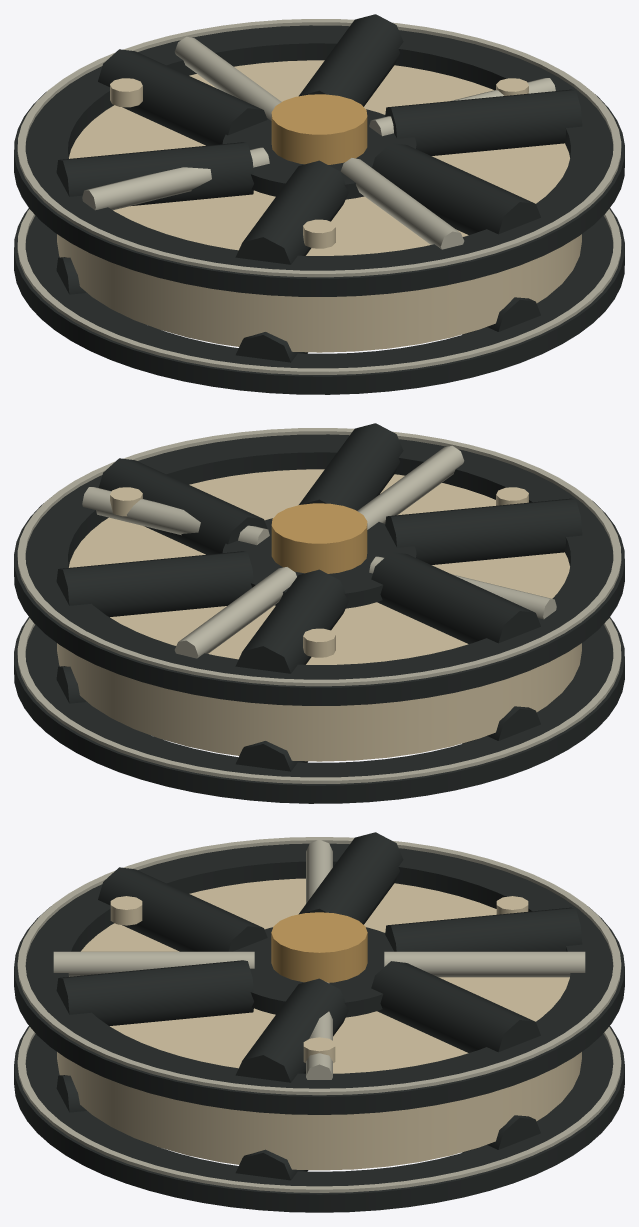
File: Continental.glb
3 views of the same model, one above another, from view 1: azimuth 30°, elevation 25°; view 2: azimuth 150°, elevation 25°; view 3: azimuth 270°, elevation 25° (orthographic).
Parts seen in each view (by area): view 1: Stamped outer rim (×2), Wound correction stock, Pressed web (×9), Pressed lip (×2), Raised spoke (×4), Spindle, Spool hub, Take-up pin (×2); view 2: Stamped outer rim (×2), Pressed web (×9), Wound correction stock, Pressed lip (×2), Raised spoke (×4), Spindle, Spool hub, Take-up pin (×3); view 3: Stamped outer rim (×2), Wound correction stock, Pressed web (×9), Pressed lip (×2), Raised spoke (×4), Spindle, Spool hub, Take-up pin (×3).
Boxes of the visible parts, <box> form: Stamped outer rim (×2): <box>14,25,624,394</box>; Wound correction stock: <box>57,60,581,352</box>; Pressed web (×9): <box>56,14,582,362</box>; Pressed lip (×2): <box>17,19,621,374</box>; Raised spoke (×4): <box>82,36,555,249</box>; Spindle: <box>271,94,367,164</box>; Spool hub: <box>222,109,416,199</box>; Take-up pin (×2): <box>110,78,335,248</box>; Stamped outer rim (×2): <box>14,434,624,803</box>; Pressed web (×9): <box>56,423,582,771</box>; Wound correction stock: <box>57,469,581,761</box>; Pressed lip (×2): <box>17,428,621,783</box>; Raised spoke (×4): <box>82,445,556,658</box>; Spindle: <box>271,503,367,573</box>; Spool hub: <box>222,518,416,608</box>; Take-up pin (×3): <box>110,487,528,657</box>; Stamped outer rim (×2): <box>14,843,624,1212</box>; Wound correction stock: <box>57,878,581,1170</box>; Pressed web (×9): <box>56,832,582,1180</box>; Pressed lip (×2): <box>17,837,621,1192</box>; Raised spoke (×4): <box>53,839,585,1079</box>; Spindle: <box>271,912,367,982</box>; Spool hub: <box>233,927,393,1017</box>; Take-up pin (×3): <box>110,896,528,1062</box>.
Bounding box in the file's own units: 0.85 × 0.253 × 0.85.
